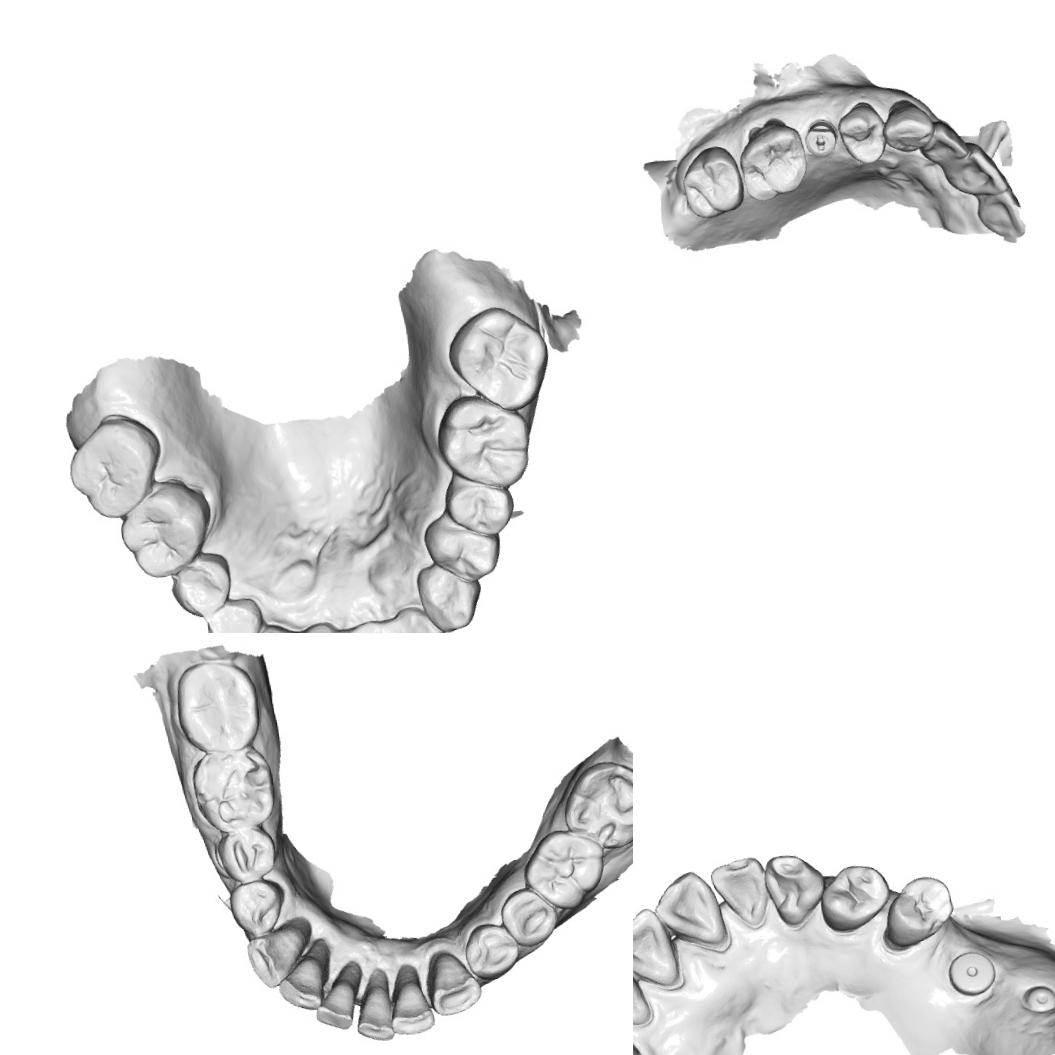canine: (760, 850, 828, 928), (413, 558, 483, 633), (244, 920, 314, 990), (424, 944, 484, 1018), (878, 94, 934, 154), (198, 600, 264, 633)
implant: (946, 942, 995, 999), (1019, 980, 1055, 1015)
implant_minus: (800, 116, 841, 159)
incisor: (648, 867, 729, 951), (706, 853, 772, 933), (943, 138, 1014, 200), (633, 904, 682, 992), (387, 968, 437, 1040), (348, 976, 397, 1045), (970, 186, 1026, 242), (273, 957, 325, 1014), (917, 116, 970, 168), (311, 980, 357, 1034), (393, 603, 447, 633), (633, 957, 653, 1031), (342, 613, 405, 633)
molar: (444, 299, 552, 416), (62, 413, 164, 523), (432, 388, 534, 492), (113, 477, 214, 582), (170, 655, 263, 753), (186, 741, 280, 834), (518, 823, 610, 912), (557, 756, 633, 853), (734, 116, 812, 204), (676, 142, 745, 222)
premolar: (420, 508, 502, 586), (814, 859, 892, 936), (880, 872, 957, 949), (166, 549, 236, 620), (442, 474, 514, 543), (499, 882, 562, 950), (832, 98, 888, 168), (214, 824, 278, 885), (461, 918, 520, 982), (226, 877, 287, 937)
